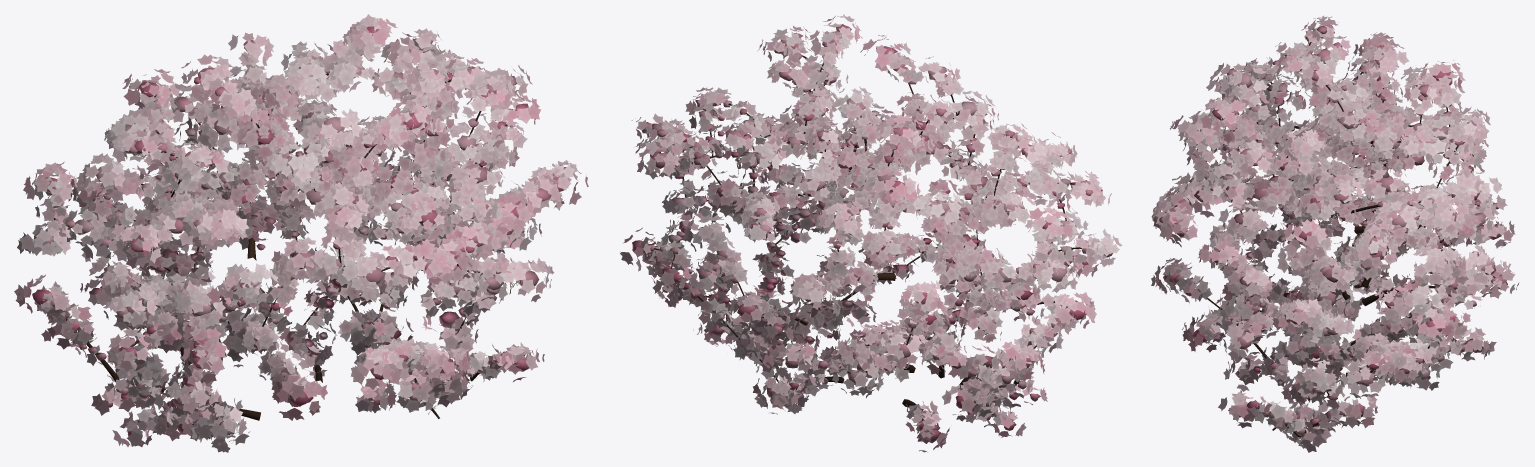
File: tree-blossom.glb
3 renders of one model, left to right at view 1: azimuth 30°, elevation 25°; view 2: azimuth 150°, elevation 25°; view 3: azimuth 270°, elevation 25°, orthographic. The views are drawn at different scales.
Parts seen in each view (by area): view 1: blossom, twigs; view 2: blossom, twigs; view 3: blossom, twigs.
Part boxes in pixels (bbox=[...]): blossom: bbox=[14, 14, 588, 452]; twigs: bbox=[54, 52, 526, 424]; blossom: bbox=[620, 14, 1122, 452]; twigs: bbox=[652, 56, 1081, 415]; blossom: bbox=[1151, 16, 1519, 452]; twigs: bbox=[1174, 42, 1476, 437].
Bounding box in the file's own units: 47.31 × 35.23 × 32.46.
